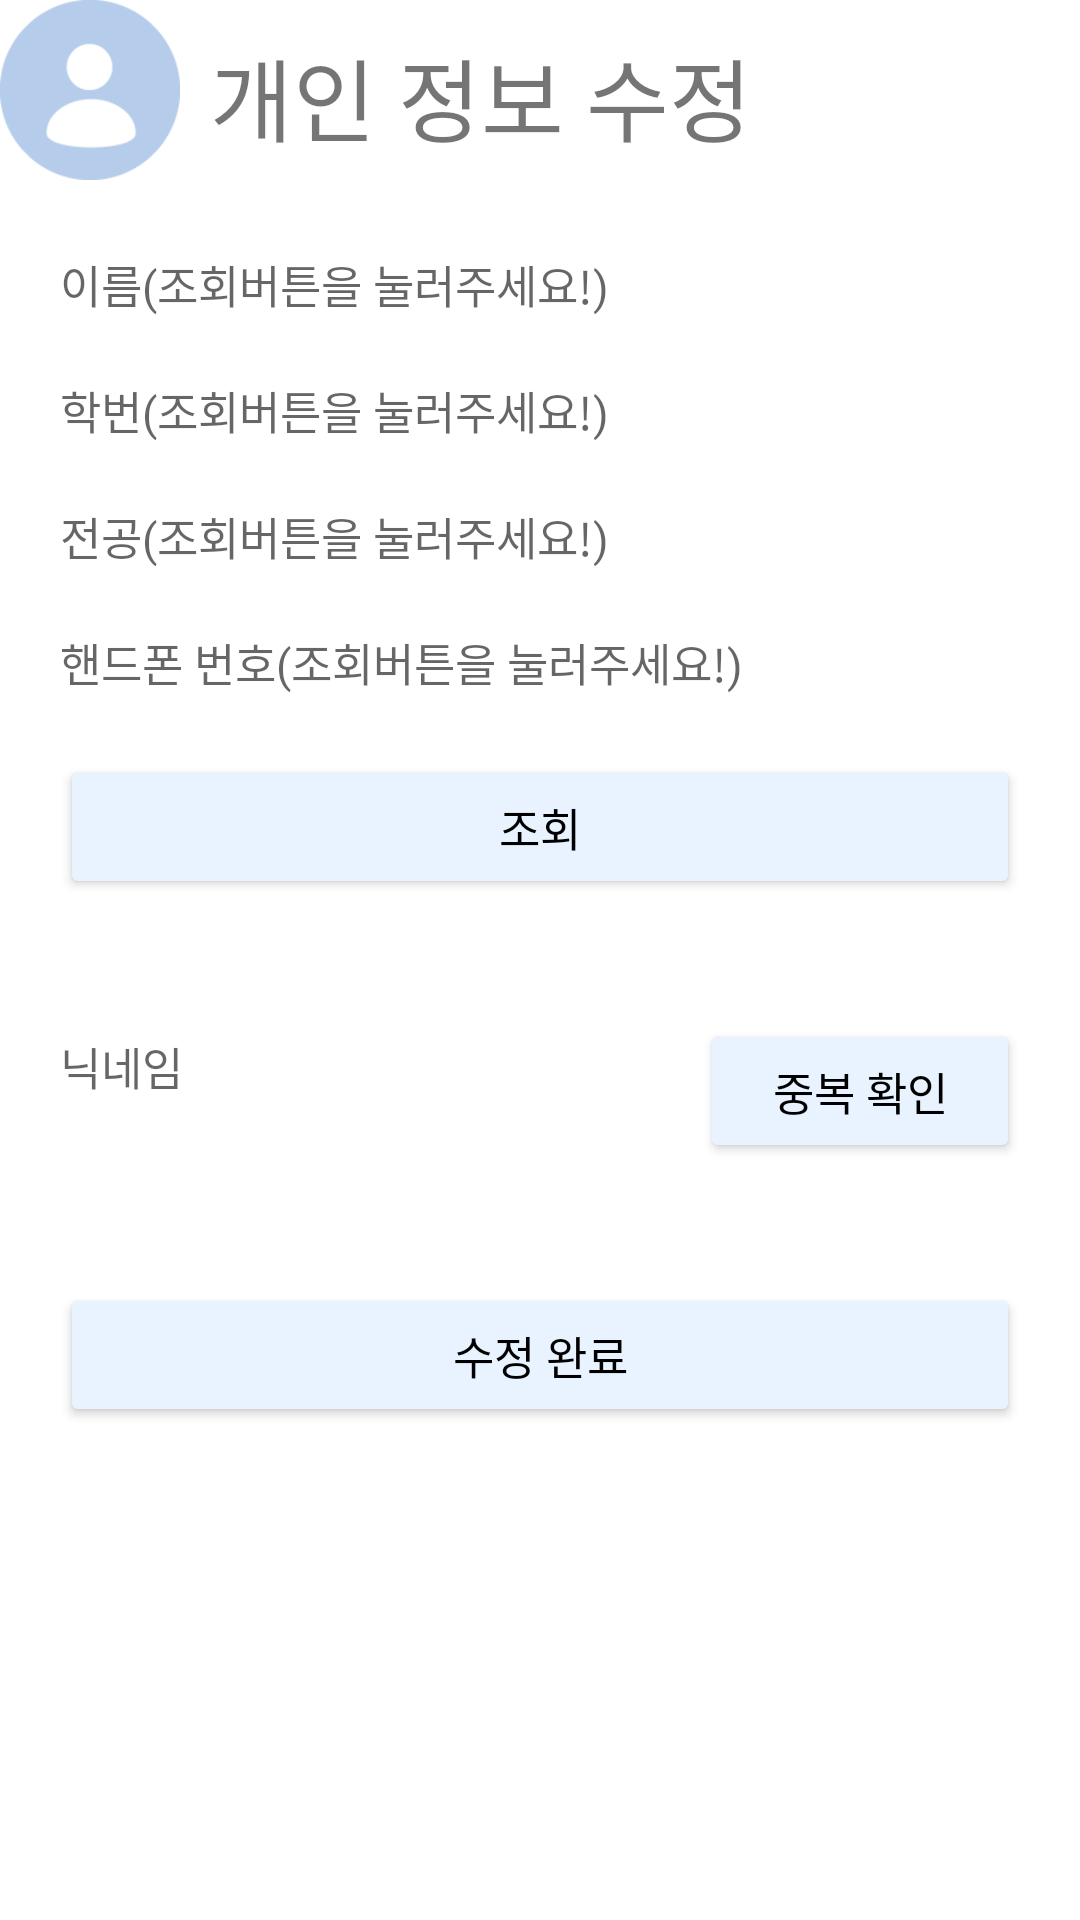

Named icons in this screenshot (1080 x 1920) and their bounding boxes, (x1, y1, x2, y2):
profile: (0, 0, 180, 180)
